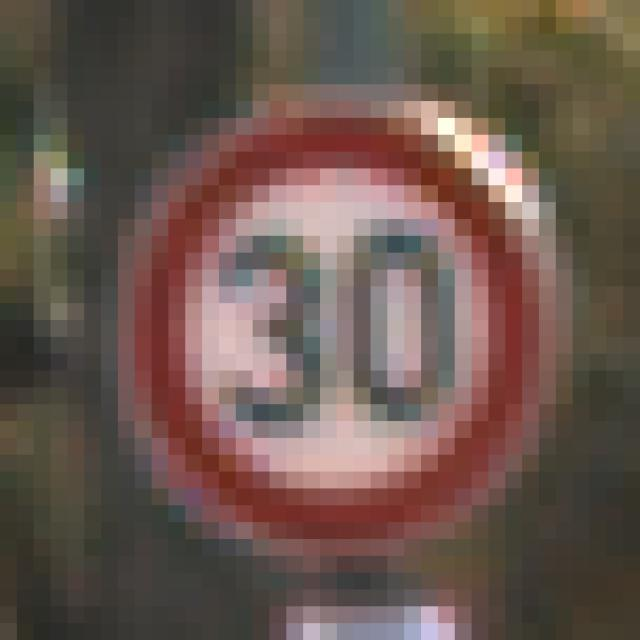Speed Limit -30-: (92, 92, 530, 548)
